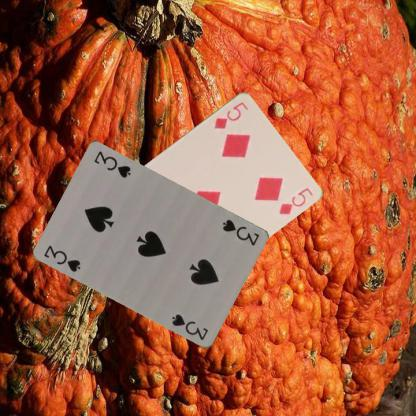3s: (220, 216, 261, 247), (42, 242, 82, 273)
5d: (211, 99, 249, 131)
